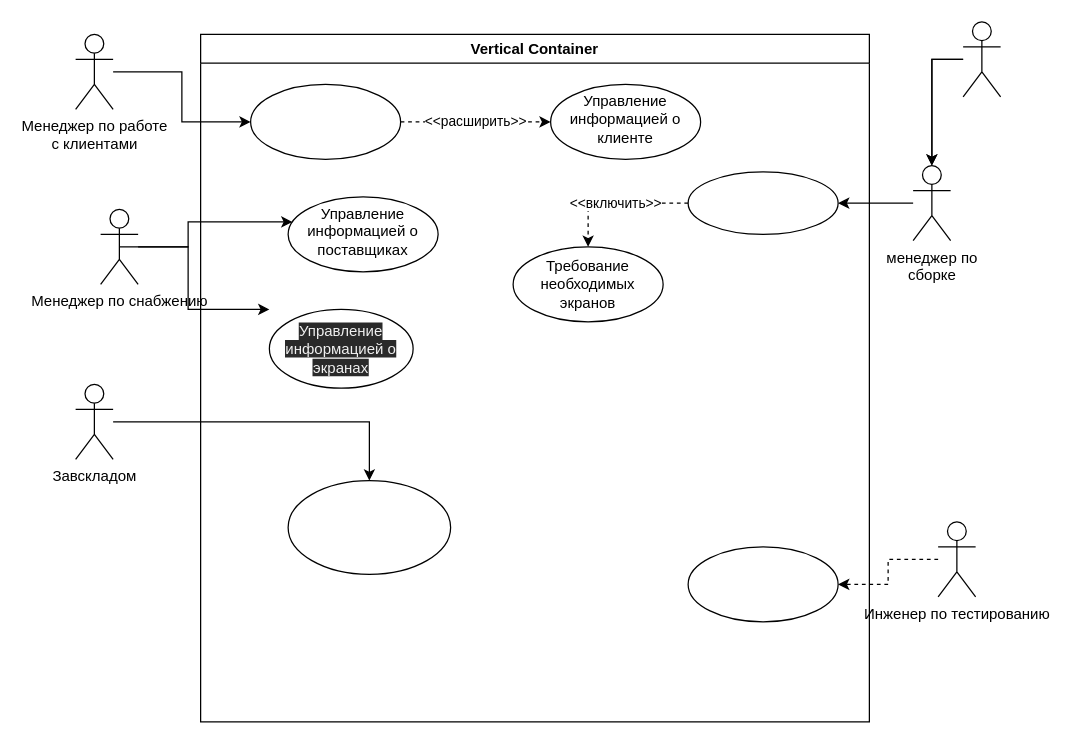
The diagram is 1071 pixels wide and 744 high, and some of its shapes have lost their labels. The box of each missing label's shape, as (x1, y1, x2, y2) in pixels:
гост специалист по экранам: (962, 21, 1001, 97)
Работа с складом: (249, 83, 401, 159)
Сборка заказа: (687, 171, 838, 234)
Тестирование работоспосбности: (687, 546, 838, 622)
Учёт поступления и выдачи экранов: (287, 479, 451, 574)
